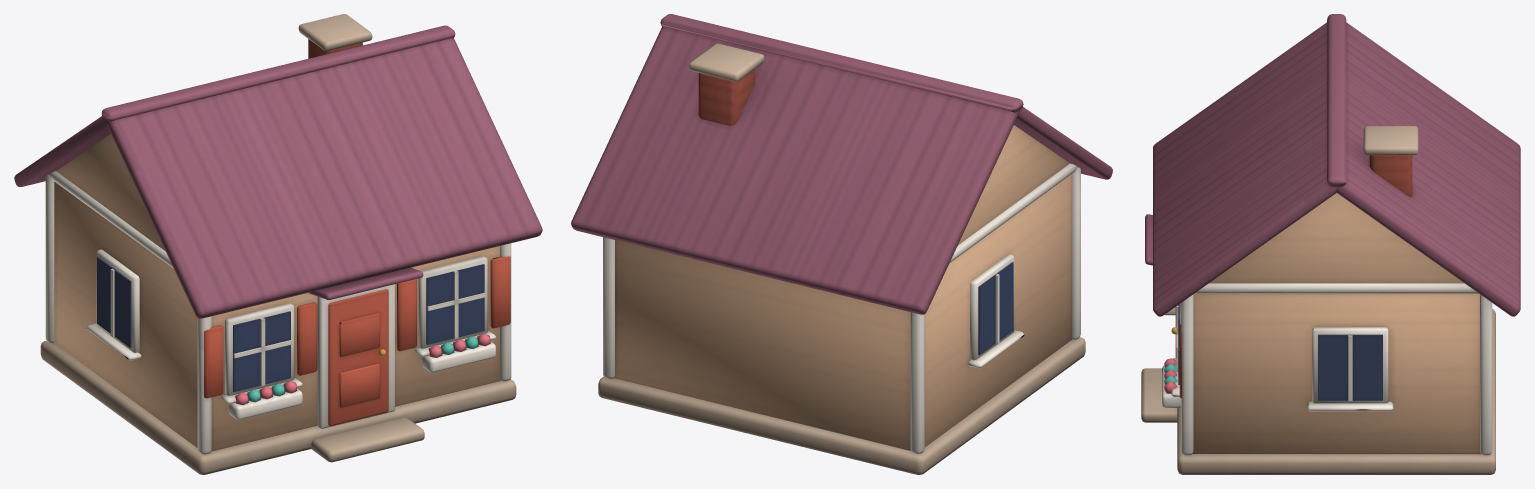
The model's file is StartKit_HouseA_Peach.fbx.
3 views of the same model, side by side, from view 1: azimuth 30°, elevation 25°; view 2: azimuth 150°, elevation 25°; view 3: azimuth 270°, elevation 25° (orthographic). The views are drawn at different scales.
Parts seen in each view (by area): view 1: HouseA_Peach; view 2: HouseA_Peach; view 3: HouseA_Peach.
Part boxes in pixels (box(x1,y1,x2,y2)): HouseA_Peach: box(14, 14, 542, 474); HouseA_Peach: box(571, 14, 1112, 474); HouseA_Peach: box(1141, 14, 1520, 474).
Bounding box in the file's own units: 5.76 × 4.92 × 5.53.
Materials: 1 (1 with a texture image).
